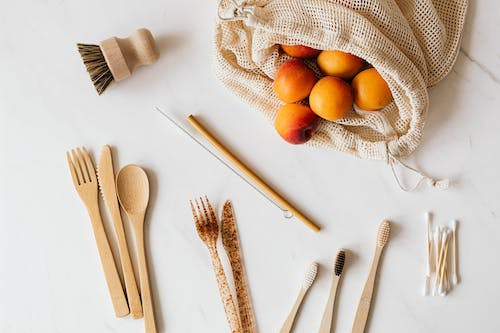knife: (96, 143, 143, 321), (219, 197, 257, 333)
